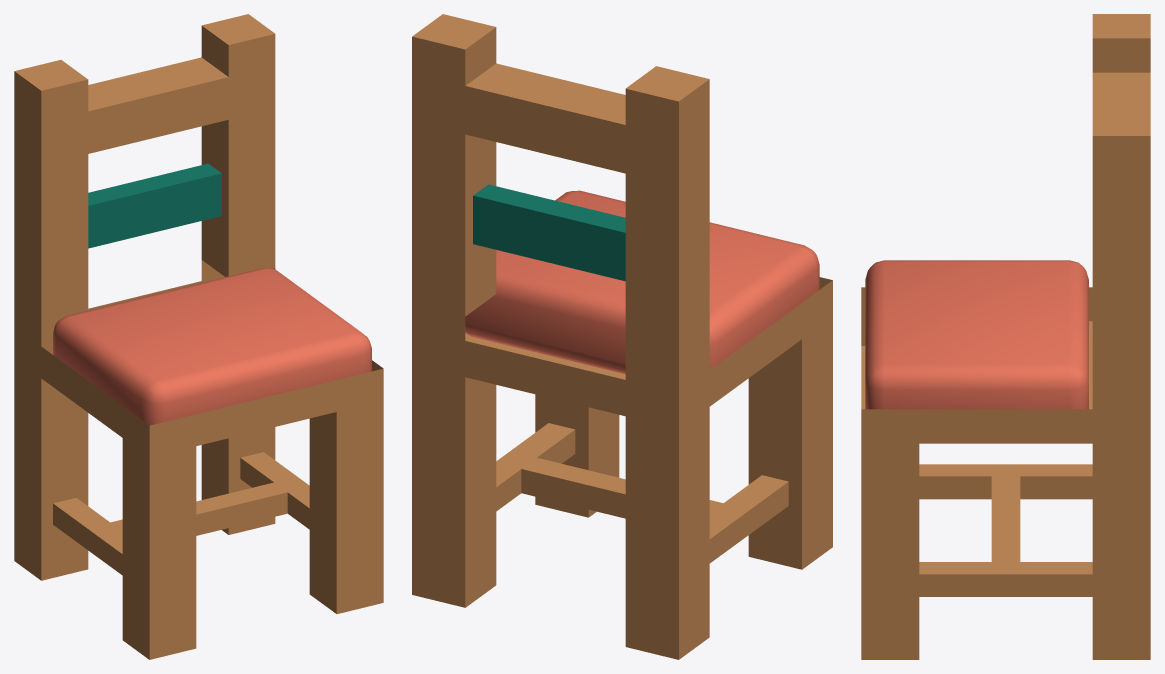
Rendered from chair.glb.
3 renders of one model, left to right at view 1: azimuth 30°, elevation 25°; view 2: azimuth 150°, elevation 25°; view 3: azimuth 270°, elevation 25°, orthographic. The views are drawn at different scales.
Visible parts, largest first — view 1: chair; view 2: chair; view 3: chair.
Part boxes in pixels (bbox=[...]): chair: bbox=[14, 14, 383, 659]; chair: bbox=[412, 14, 832, 659]; chair: bbox=[861, 14, 1150, 659].
Size of the model in its own units: 0.45 by 0.9 by 0.45.
